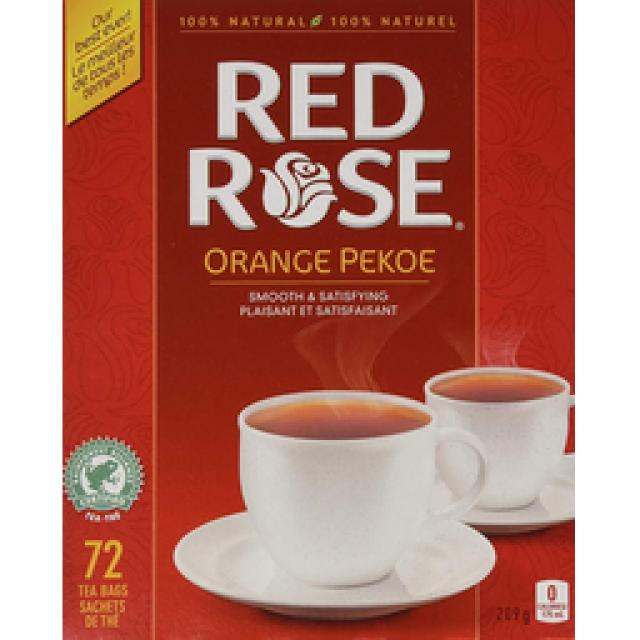tea-bags: (62, 0, 572, 638)
